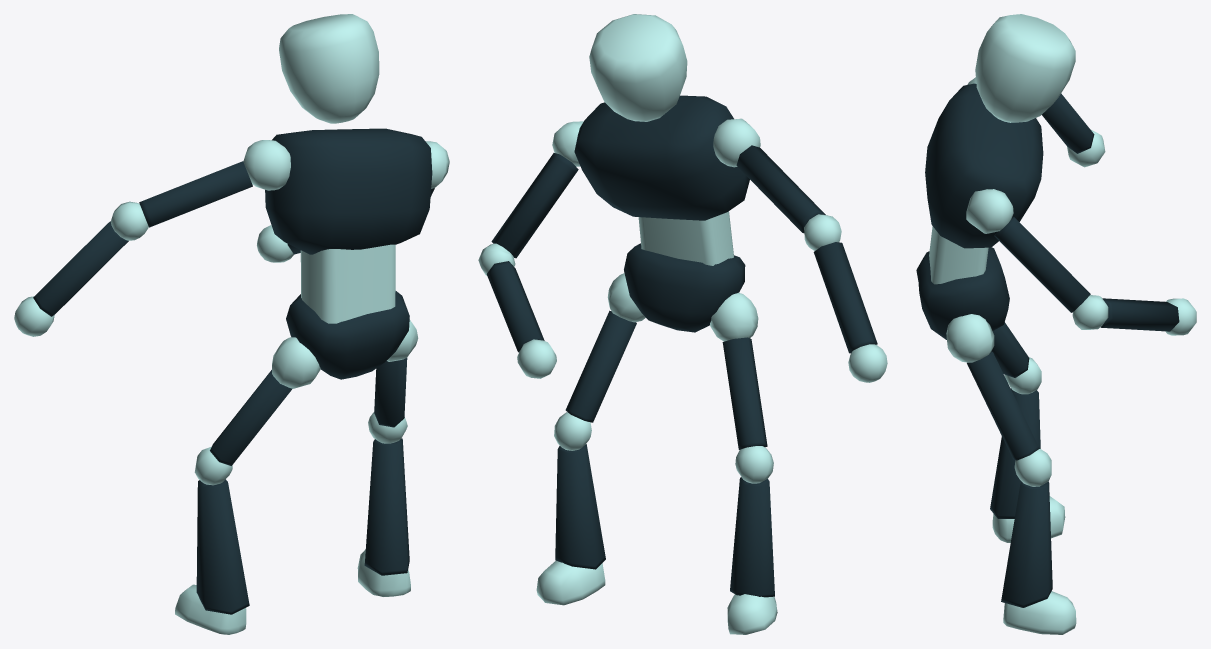
Rendered from Boss2.fbx.
3 views of the same model, side by side, from view 1: azimuth 30°, elevation 25°; view 2: azimuth 150°, elevation 25°; view 3: azimuth 270°, elevation 25° (orthographic). The views are drawn at different scales.
Parts seen in each view (by area): view 1: Boss; view 2: Boss; view 3: Boss.
Boxes of the visible parts, x1,y1,x2,y2 form: Boss: (14,14,449,634); Boss: (478,14,887,634); Boss: (916,14,1196,634).
Bounding box in the file's own units: 1.08 × 1.49 × 0.6586.
Materials: 1 (1 with a texture image).
